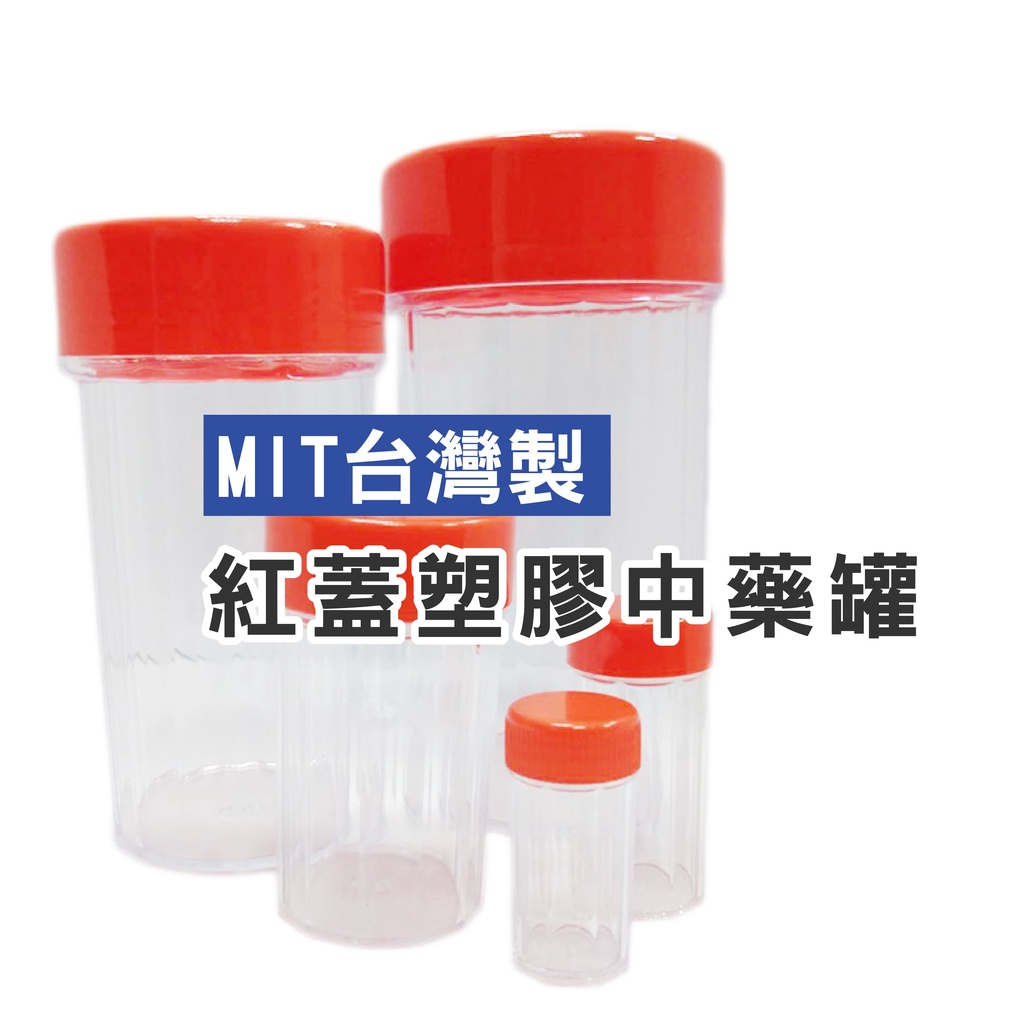medicinejar: (368, 127, 724, 854), (41, 203, 414, 891), (255, 493, 494, 959), (567, 588, 712, 932), (501, 691, 638, 995)
